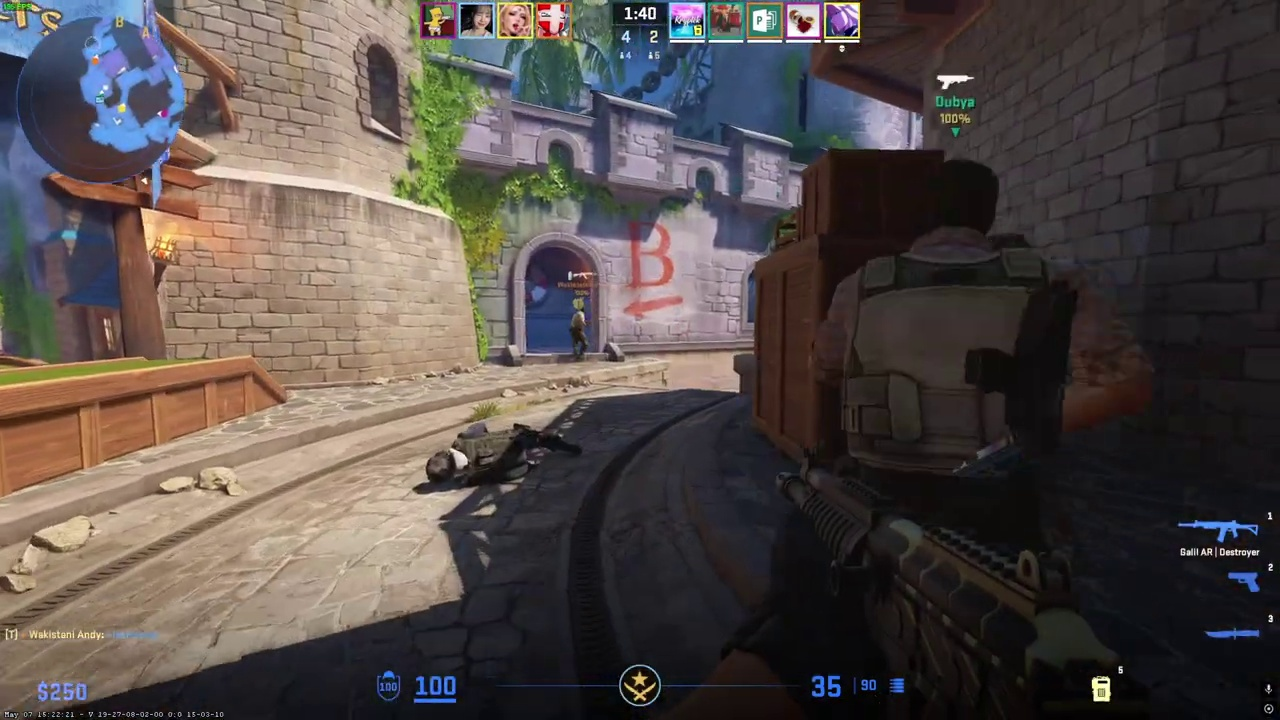Terrorist: (863, 156, 1115, 552), (570, 309, 589, 361)
